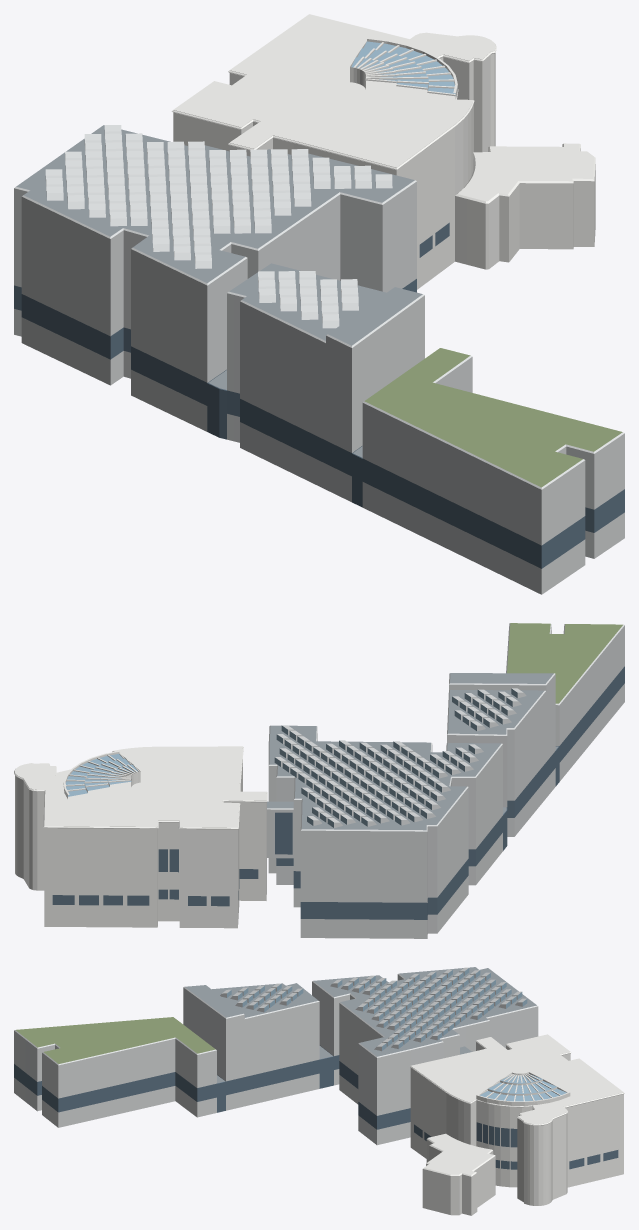
Rendered from atl-high-museum.glb.
The picture shows the model from 3 angles, top to bottom: view 1: azimuth 30°, elevation 25°; view 2: azimuth 150°, elevation 25°; view 3: azimuth 270°, elevation 25°; orthographic projection. The views are drawn at different scales.
Parts seen in each view (by area): view 1: High Museum of Art; view 2: High Museum of Art; view 3: High Museum of Art.
Boxes of the visible parts, box(x1,y1,x2,y2) form: High Museum of Art: box(14, 14, 624, 594); High Museum of Art: box(14, 623, 624, 938); High Museum of Art: box(14, 967, 624, 1215).
Bounding box in the file's own units: 112 × 30 × 179.
